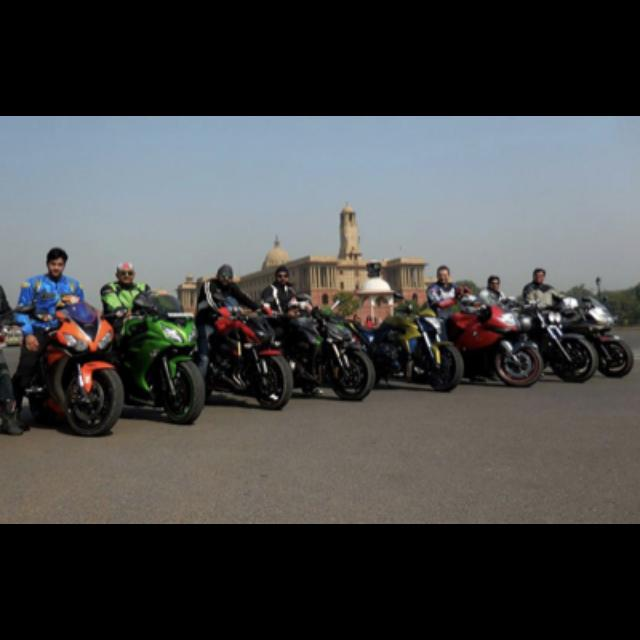Without Helmet: (42, 246, 72, 276), (272, 261, 292, 287), (216, 262, 234, 284), (116, 260, 134, 282), (434, 262, 450, 284), (488, 273, 502, 291), (531, 265, 545, 281)
